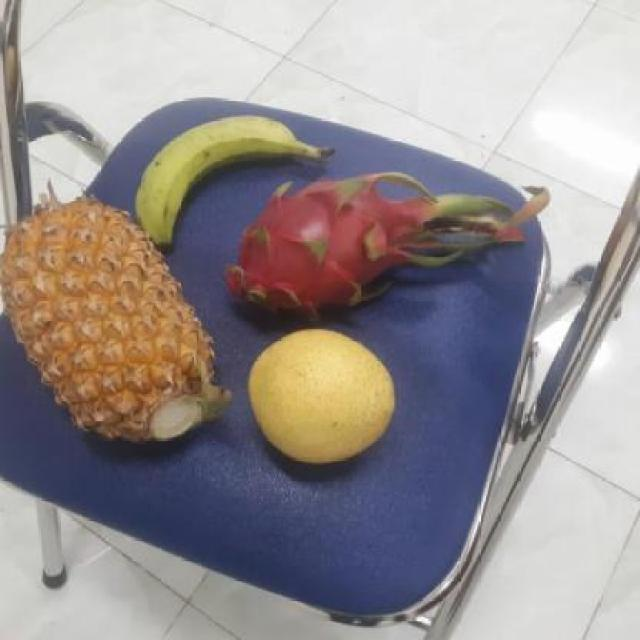banana: (130, 116, 312, 247)
dragon fruit: (218, 172, 428, 326)
pear: (242, 333, 396, 467)
pineapple: (0, 201, 225, 445)
